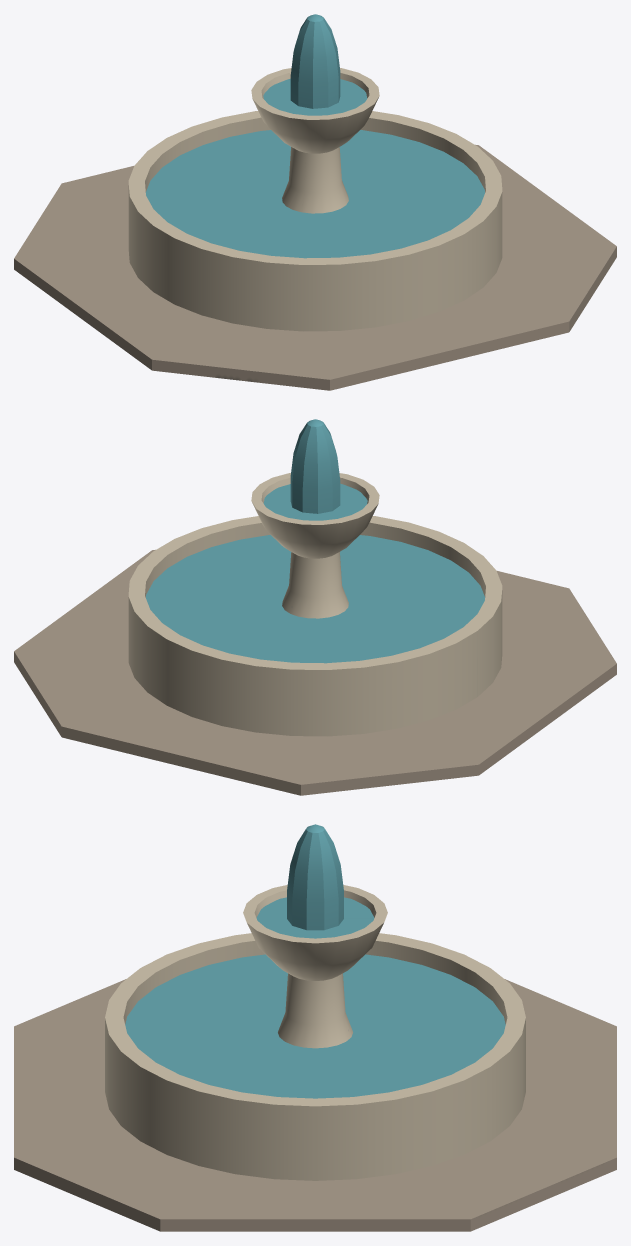
The model's file is Fountain.fbx.
3 renders of one model, top to bottom at view 1: azimuth 30°, elevation 25°; view 2: azimuth 150°, elevation 25°; view 3: azimuth 270°, elevation 25°, orthographic. The views are drawn at different scales.
Parts seen in each view (by area): view 1: Fountain; view 2: Fountain; view 3: Fountain.
Boxes of the visible parts, x1,y1,x2,y2 form: Fountain: (14, 14, 616, 390); Fountain: (14, 419, 616, 795); Fountain: (14, 824, 616, 1231).
Bounding box in the file's own units: 3.74 × 1.91 × 3.74.
